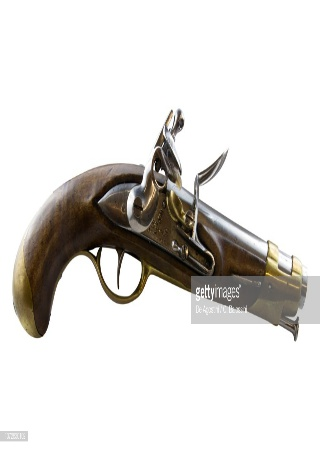handgun: (10, 103, 309, 358)
